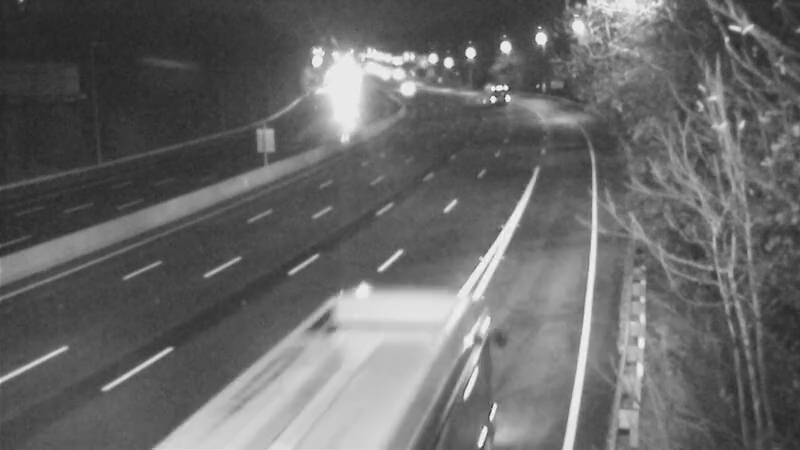vehicle: (270, 316, 380, 426), (381, 62, 431, 112), (464, 67, 514, 117), (316, 78, 366, 128)
